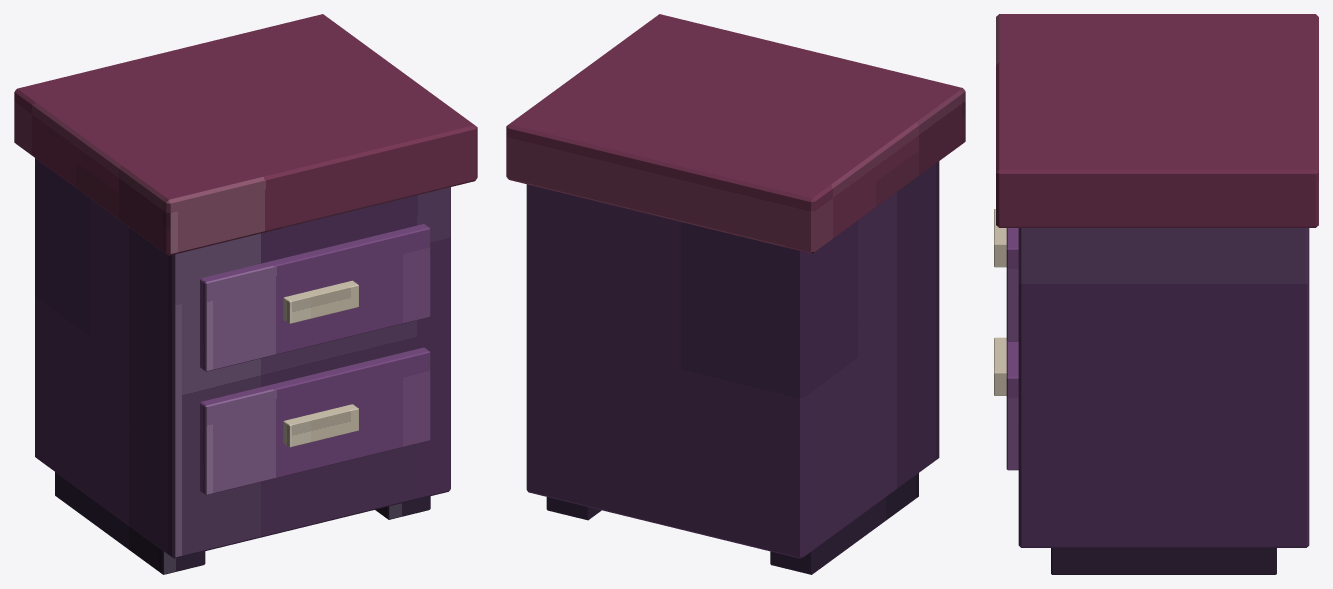
File: bedroom_nightstand_violet.glb
The picture shows the model from 3 angles, left to right: view 1: azimuth 30°, elevation 25°; view 2: azimuth 150°, elevation 25°; view 3: azimuth 270°, elevation 25°; orthographic projection. The views are drawn at different scales.
Parts seen in each view (by area): view 1: NightstandBody, NightstandTop, NightstandDrawer_2, NightstandDrawer_1, NightstandFoot_L, NightstandHandle_2, NightstandHandle_1, NightstandFoot_R; view 2: NightstandBody, NightstandTop, NightstandFoot_L, NightstandFoot_R; view 3: NightstandBody, NightstandTop, NightstandFoot_R, NightstandDrawer_2, NightstandDrawer_1, NightstandHandle_2, NightstandHandle_1.
Boxes of the visible parts, left/top/right/bottom form: NightstandBody: left=35, top=158, right=450, bottom=558; NightstandTop: left=14, top=14, right=477, bottom=255; NightstandDrawer_2: left=200, top=347, right=430, bottom=495; NightstandDrawer_1: left=200, top=224, right=430, bottom=371; NightstandFoot_L: left=55, top=472, right=205, bottom=574; NightstandHandle_2: left=283, top=404, right=358, bottom=447; NightstandHandle_1: left=283, top=280, right=358, bottom=323; NightstandFoot_R: left=375, top=496, right=430, bottom=519; NightstandBody: left=526, top=161, right=939, bottom=558; NightstandTop: left=506, top=14, right=965, bottom=253; NightstandFoot_L: left=770, top=473, right=918, bottom=574; NightstandFoot_R: left=546, top=497, right=601, bottom=520; NightstandBody: left=1018, top=228, right=1309, bottom=547; NightstandTop: left=996, top=14, right=1318, bottom=227; NightstandFoot_R: left=1051, top=548, right=1276, bottom=574; NightstandDrawer_2: left=1006, top=341, right=1018, bottom=470; NightstandDrawer_1: left=1006, top=228, right=1018, bottom=341; NightstandHandle_2: left=994, top=337, right=1006, bottom=395; NightstandHandle_1: left=994, top=209, right=1006, bottom=267.
Bounding box in the file's own units: 0.58 × 0.71 × 0.503.
1 material, 1 textured.
